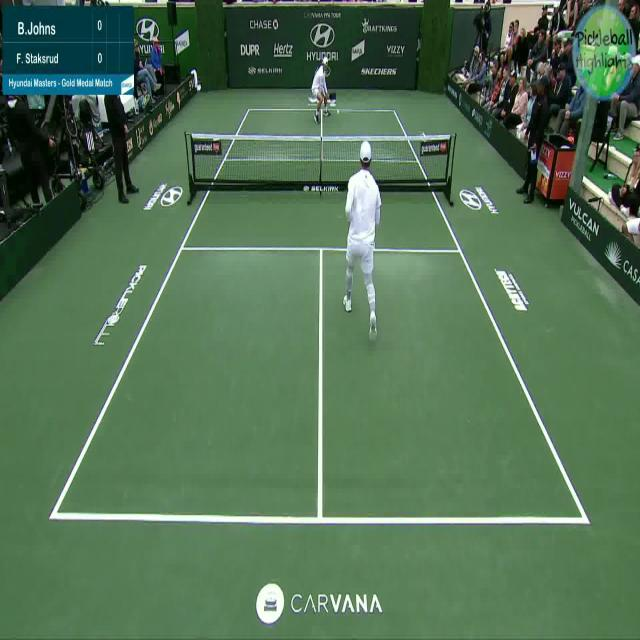ball: (334, 106, 343, 118)
